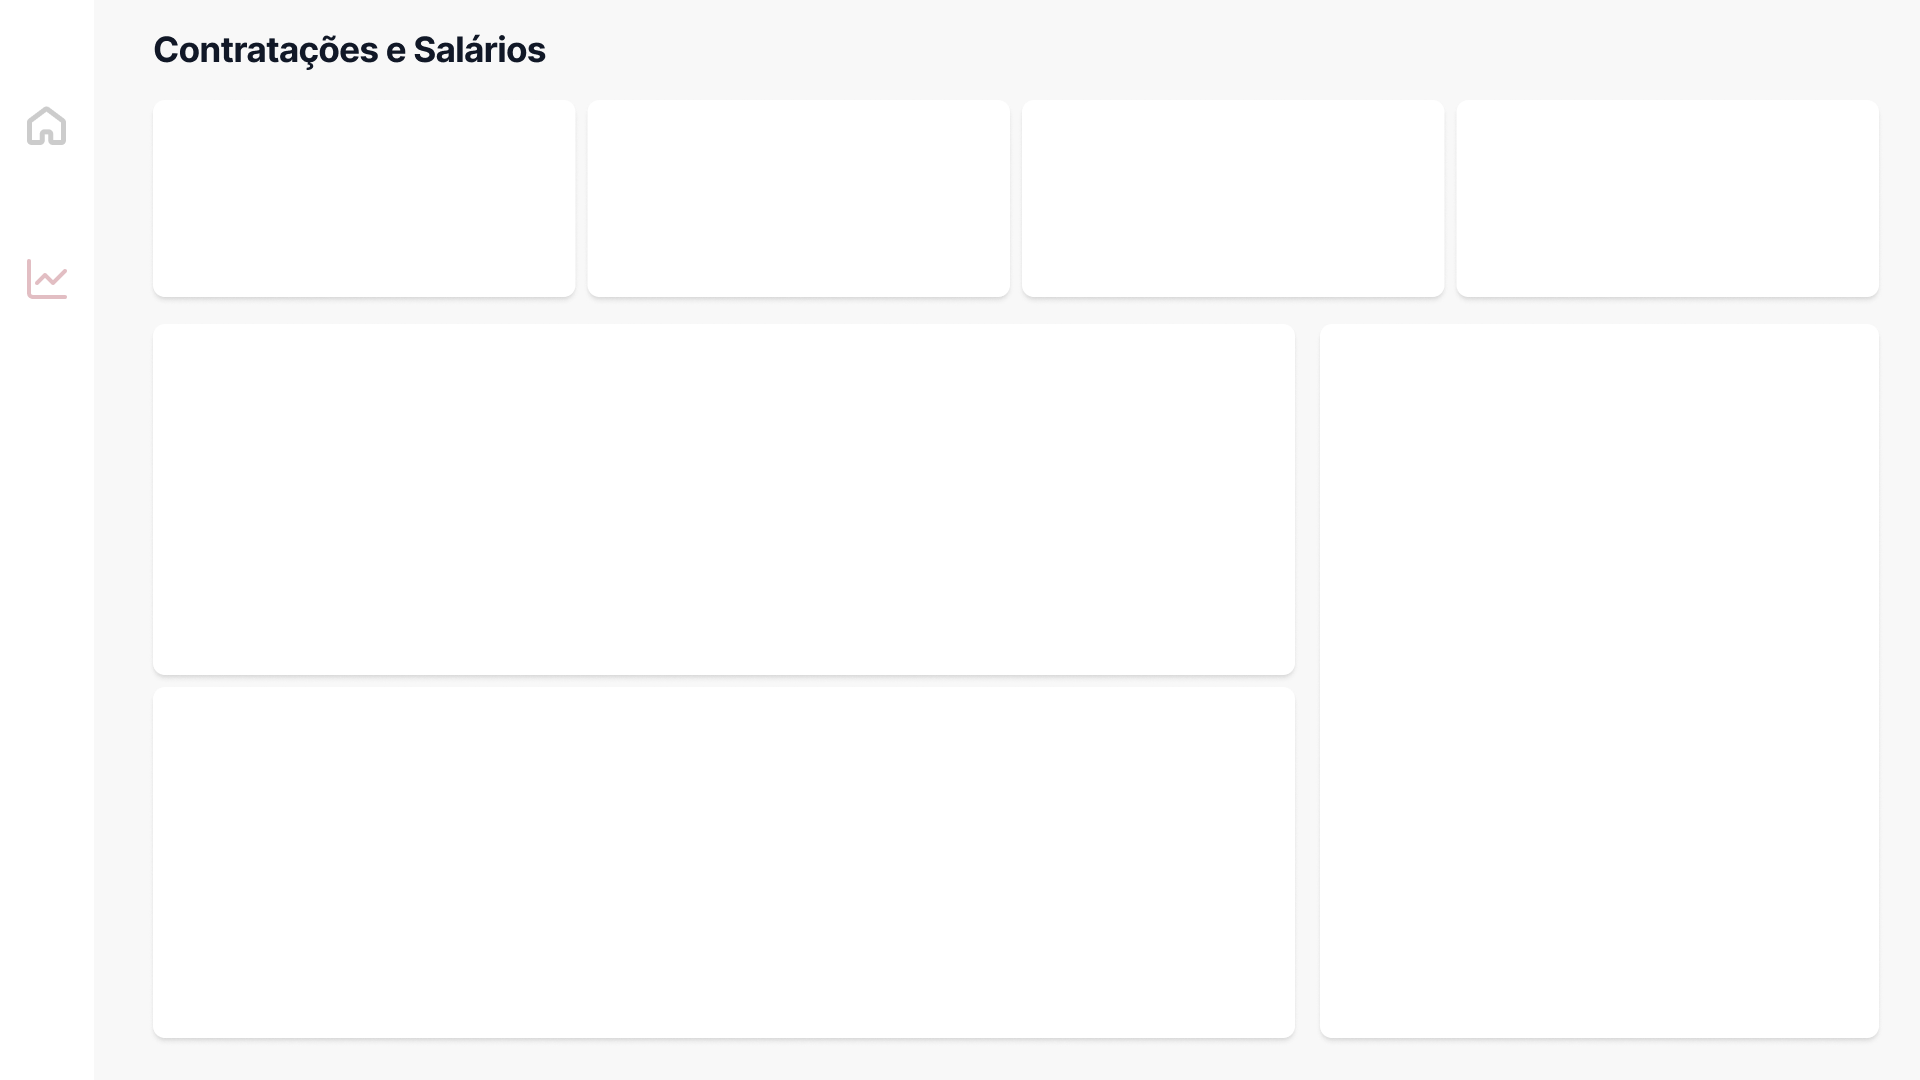

Layout of this report page (visuals, bound fields, positions):
{"tool":"powerbi","page":{"name":"CONTRATACOES E SALARIOS","canvas":[1280,720],"ordinal":0},"visuals":[{"type":"card","fields":{"Values":["Sum(Base.Salário)"]},"box":[100.5,66.6,282.7,126.1],"z":0},{"type":"card","fields":{"Values":["Avg(Base.Idade)"]},"box":[971.8,66.6,279.2,126.1],"z":1},{"type":"clusteredBarChart","title":"MÉDIA DE SALÁRIO POR CARGO","fields":{"Category":["Base.Cargo Primario","Base.Cargo"],"Y":["Avg(Base.Salário)"]},"box":[881.9,216.1,372.6,471.9],"z":2},{"type":"lineChart","title":"CONTRATAÇÕES POR PERÍODO","fields":{"Category":["Base.Contratação.Variation.Hierarquia de datas.Ano","Base.Contratação.Variation.Hierarquia de datas.Mês"],"Y":["Count(Base.Funcionário)"]},"box":[104,454.4,756.9,235.9],"z":3},{"type":"card","fields":{"Values":["Avg(Base.Salário)"]},"box":[391.3,66.6,282.7,126.1],"z":4},{"type":"card","fields":{"Values":["Count(Base.Funcionário)"]},"box":[682.1,66.6,279.2,126.1],"z":5},{"type":"clusteredColumnChart","title":"MÉDIA DE SALÁRIO POR IDADE","fields":{"Y":["Avg(Base.Salário)"],"Category":["Base.Faixa Idada"]},"box":[104,216.1,756.9,235.9],"z":6}]}

Visuals, with their boxes in screenshot pixels (x1, y1, x2, y2):
card - Sum(Base.Salário): [80, 51, 529, 251]
card - Avg(Base.Idade): [1465, 51, 1909, 251]
"MÉDIA DE SALÁRIO POR CARGO" clusteredBarChart: [1322, 289, 1915, 1039]
"CONTRATAÇÕES POR PERÍODO" lineChart: [85, 667, 1289, 1043]
card - Avg(Base.Salário): [542, 51, 992, 251]
card - Count(Base.Funcionário): [1005, 51, 1448, 251]
"MÉDIA DE SALÁRIO POR IDADE" clusteredColumnChart: [85, 289, 1289, 664]
